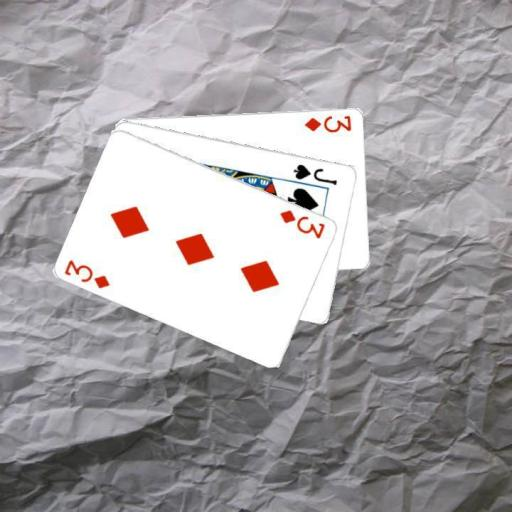card-corner: (61, 256, 112, 290), (277, 206, 327, 240), (290, 161, 339, 186), (302, 112, 352, 134)
